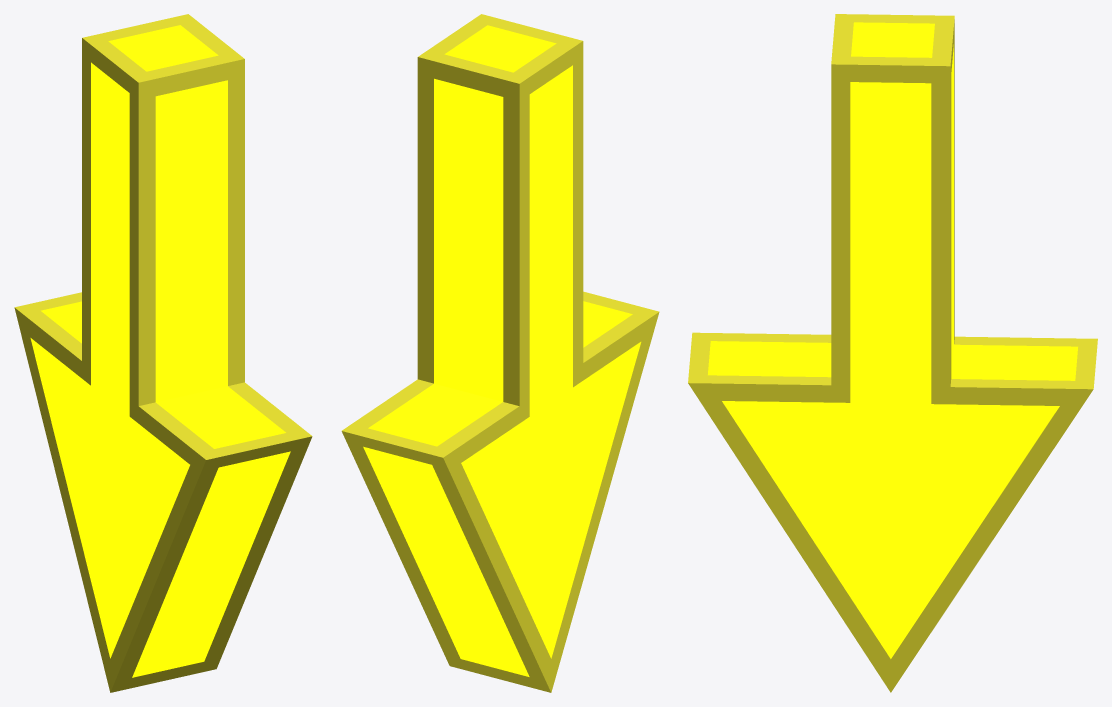
Rendered from Arrow.fbx.
3 renders of one model, left to right at view 1: azimuth 30°, elevation 25°; view 2: azimuth 150°, elevation 25°; view 3: azimuth 270°, elevation 25°, orthographic.
Visible parts, largest first — view 1: Plane.013; view 2: Plane.013; view 3: Plane.013.
Part boxes in pixels (x1=…): Plane.013: x1=14, y1=14, x2=312, y2=692; Plane.013: x1=341, y1=14, x2=659, y2=692; Plane.013: x1=688, y1=14, x2=1097, y2=692.
Size of the model in its own units: 1.12 by 5.8 by 3.43.
